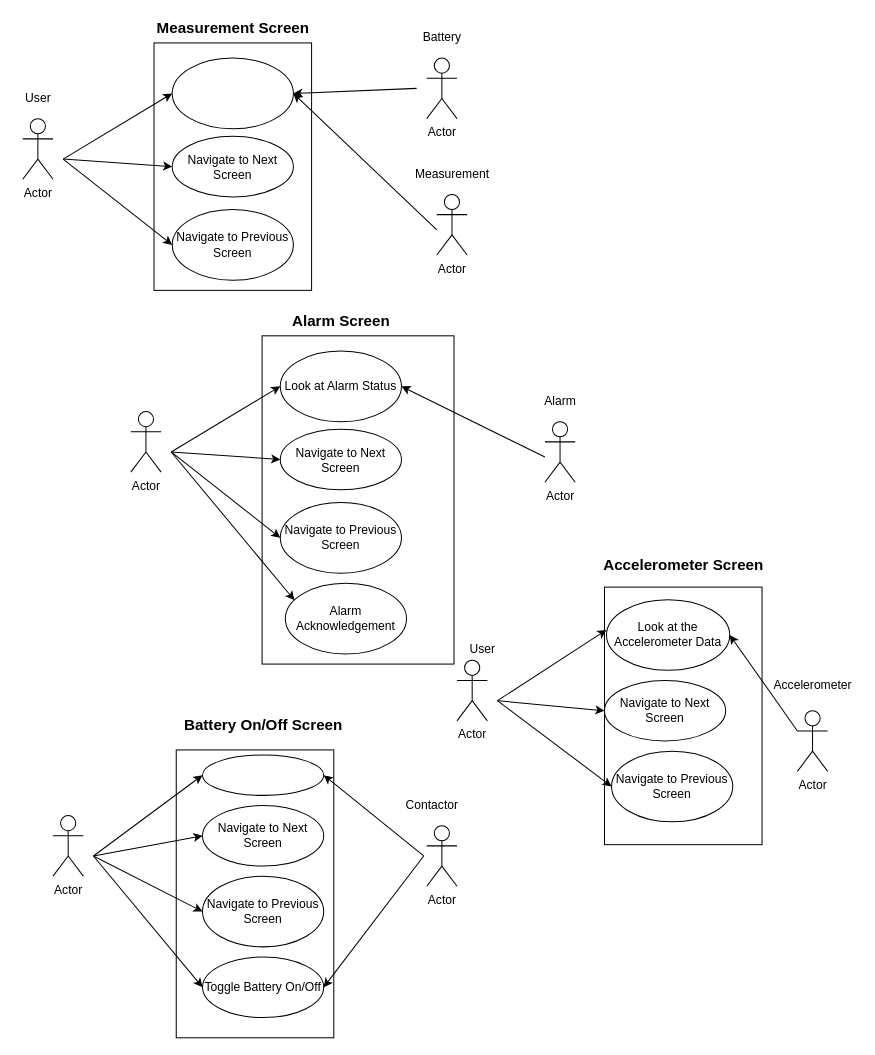
The diagram is 875 pixels wide and 1055 high, and some of its shapes have lost their labels. Each missing label, with the centre of its shape:
Look at Battery Status: [262,774]
Look at Measurement Data: [232,93]
